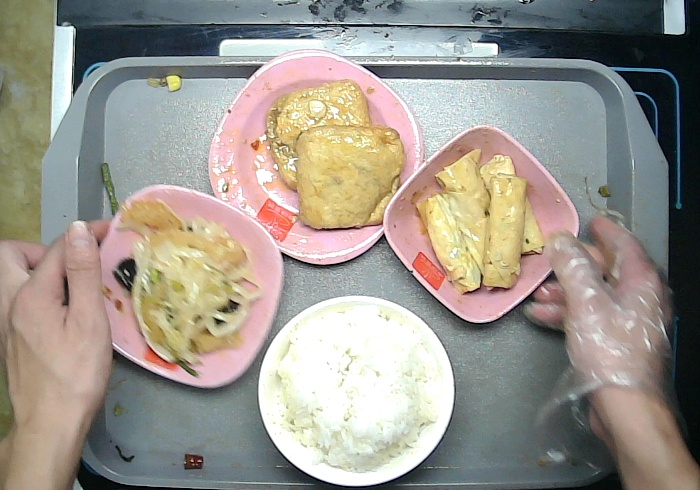SHKJ-Fan_Wan: (252, 292, 461, 487)
SHKJ-Fen_Se_Cai_Die: (88, 181, 286, 393)
SHKJ-Fen_Se_Si_Fang_Cai_Die: (206, 44, 429, 271)
SHKJ-Fen_Se_Xiao_Fang_Die: (384, 119, 576, 330)
